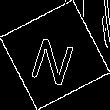N_N: (28, 25, 82, 85)
